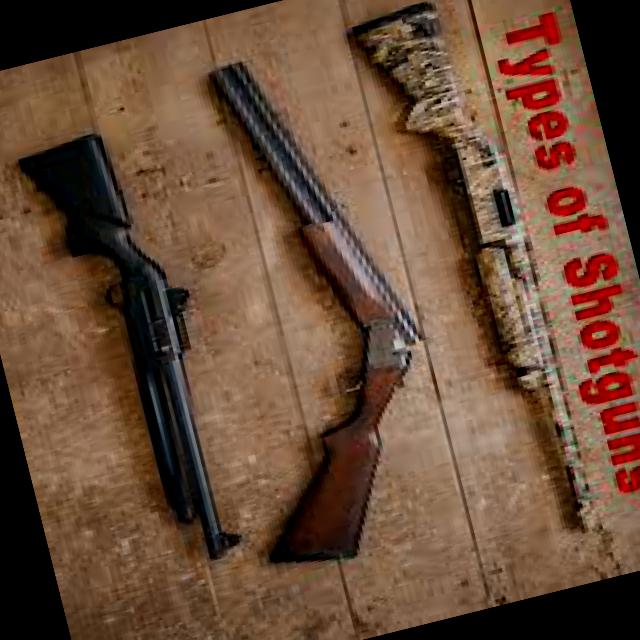long weapon: (324, 0, 622, 532), (0, 112, 253, 603)
